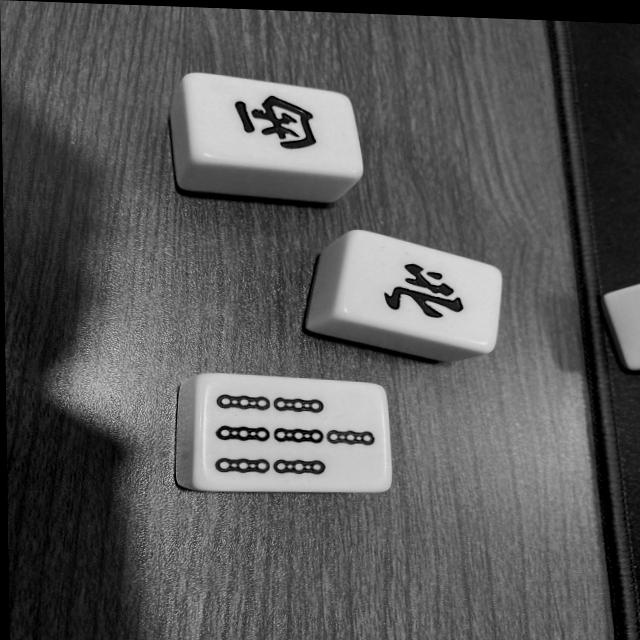north: (341, 237, 505, 356)
s7: (201, 379, 389, 493)
west: (190, 78, 363, 177)
